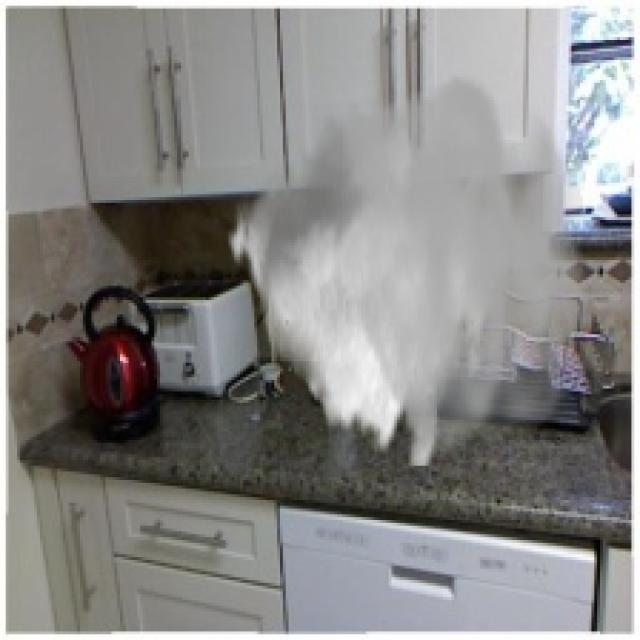smoke: (226, 68, 588, 466)
